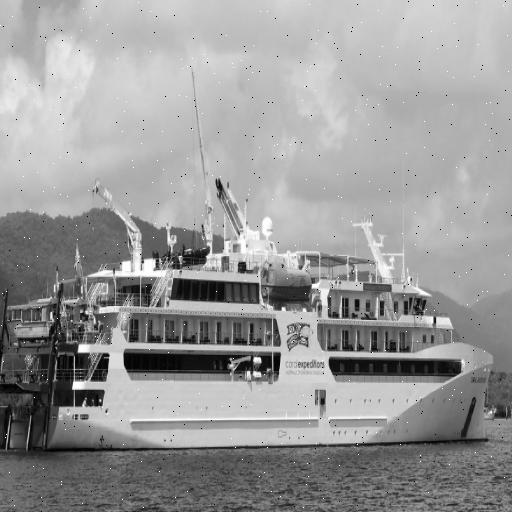cruises: (1, 177, 496, 457)
